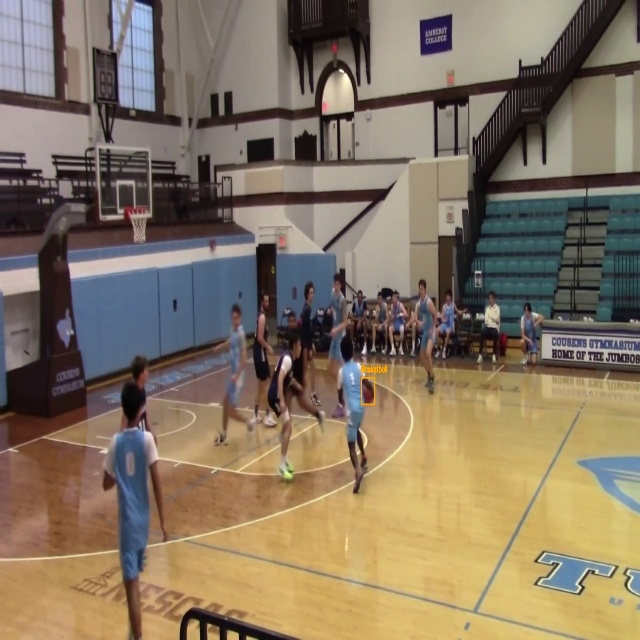Basketball: (361, 378, 375, 404)
